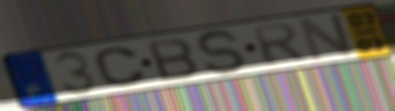3: (51, 50, 99, 97)
B: (144, 36, 200, 84)
C: (92, 45, 150, 89)
N: (296, 11, 357, 64)
R: (249, 21, 310, 68)
S: (193, 28, 252, 76)
